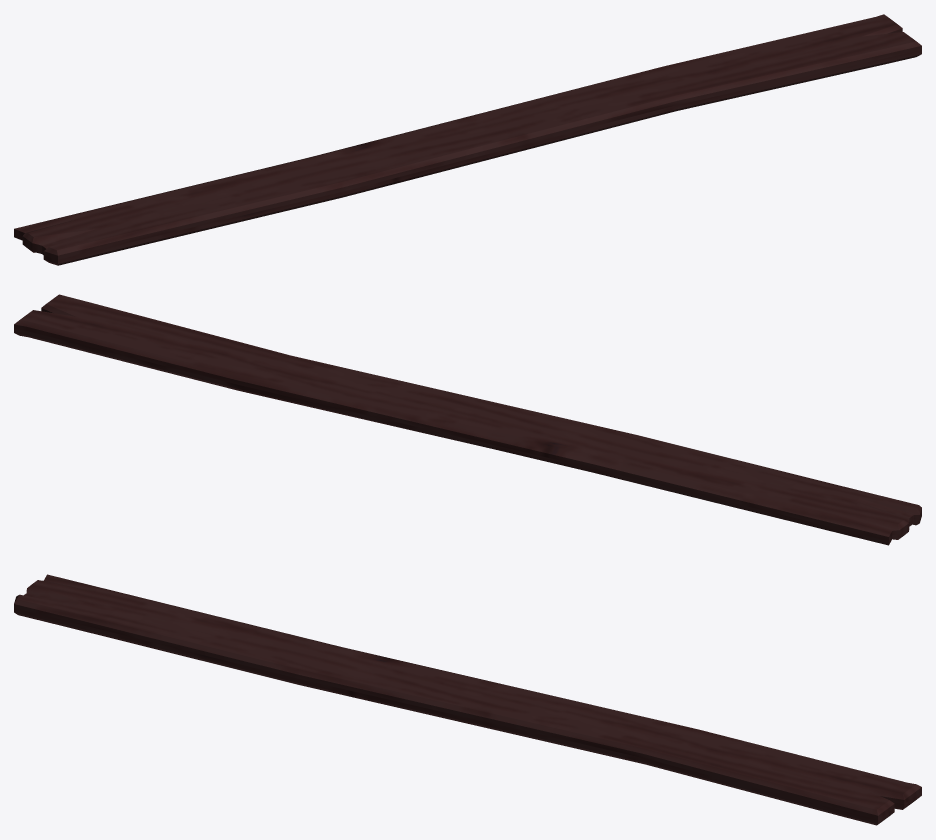
File: MOD_PlankThin_Block.fbx
3 renders of one model, top to bottom at view 1: azimuth 30°, elevation 25°; view 2: azimuth 150°, elevation 25°; view 3: azimuth 330°, elevation 25°, orthographic.
Visible parts, largest first — view 1: MOD_PlankThin_Block; view 2: MOD_PlankThin_Block; view 3: MOD_PlankThin_Block.
Boxes of the visible parts, x1,y1,x2,y2 form: MOD_PlankThin_Block: (14, 14, 921, 265); MOD_PlankThin_Block: (14, 294, 921, 545); MOD_PlankThin_Block: (14, 574, 921, 825).
Bounding box in the file's own units: 398 × 6.85 × 33.17.
1 material, 1 textured.
